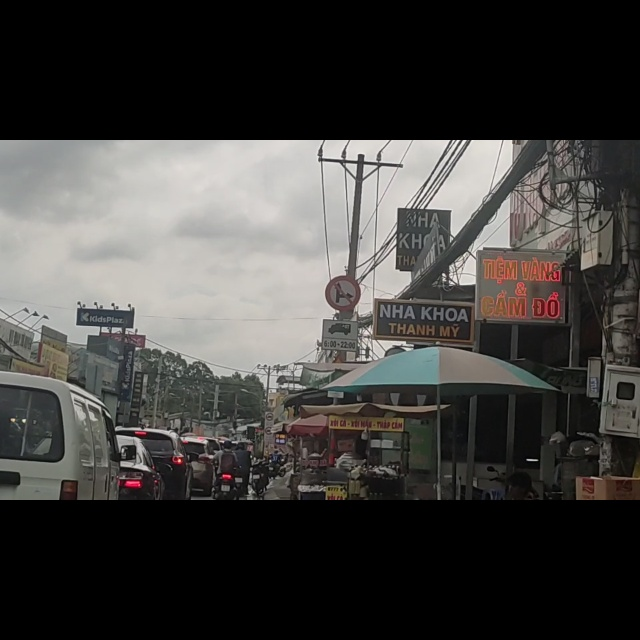bien_cam: (325, 239, 361, 303), (323, 319, 357, 376)
